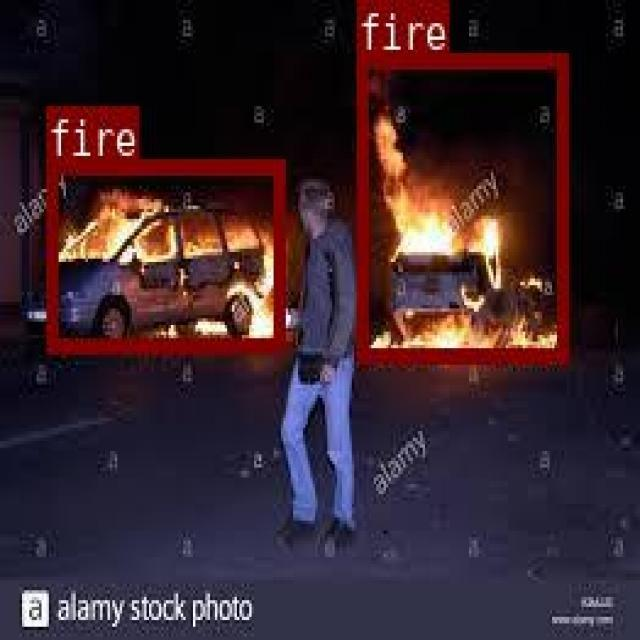fire: (356, 51, 566, 361), (45, 157, 283, 349)
